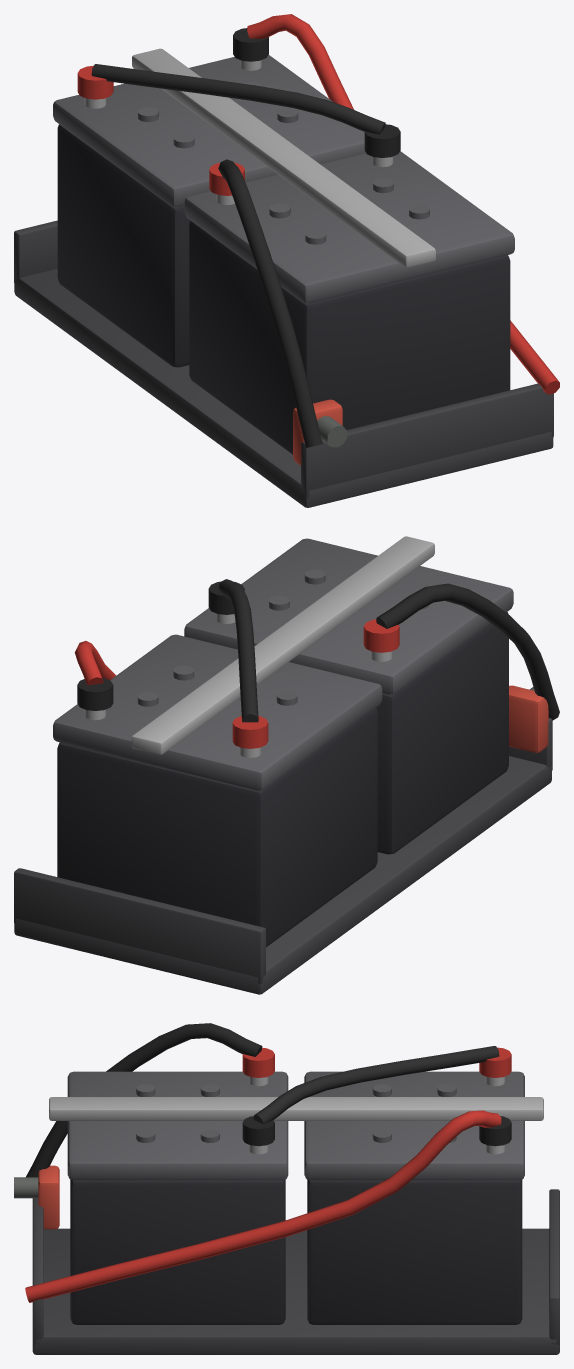
Rendered from battery.glb.
The picture shows the model from 3 angles, top to bottom: view 1: azimuth 30°, elevation 25°; view 2: azimuth 150°, elevation 25°; view 3: azimuth 270°, elevation 25°; orthographic projection. The views are drawn at different scales.
Parts seen in each view (by area): view 1: Part; view 2: Part; view 3: Part.
Boxes of the visible parts, x1,y1,x2,y2 form: Part: [14, 14, 559, 507]; Part: [14, 536, 559, 994]; Part: [14, 1023, 559, 1354].
Size of the model in its own units: 0.4929 by 0.484 by 1.01.
